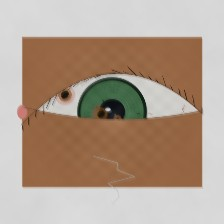foreign_body_visible: (94, 123, 127, 150)
